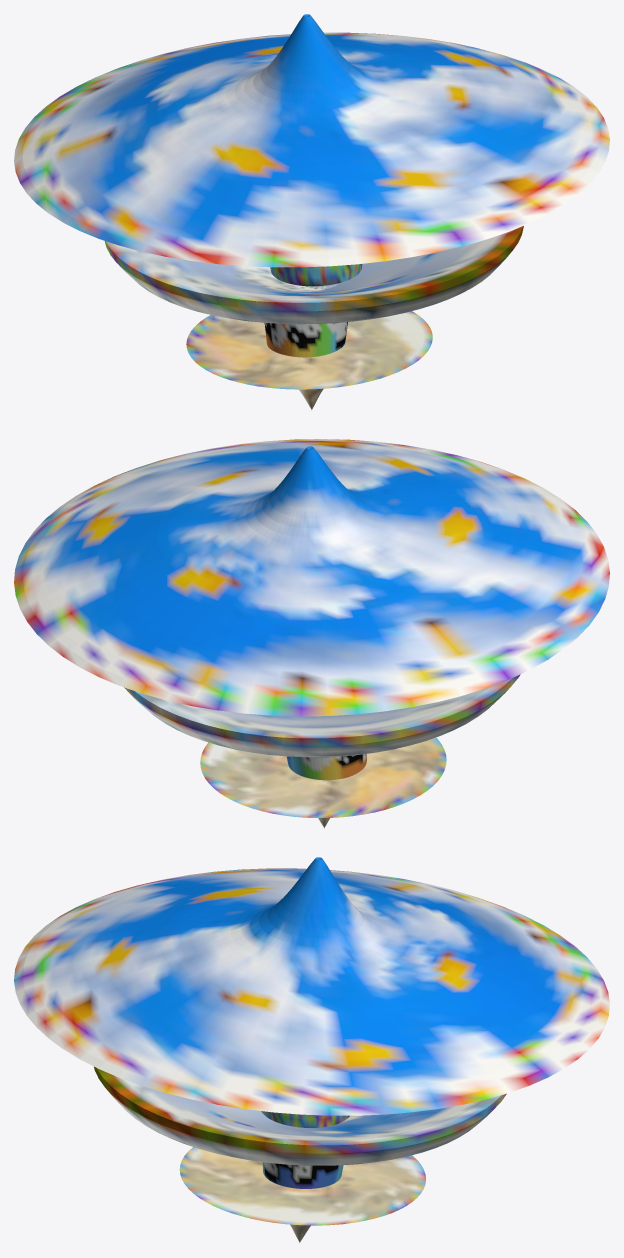
Rendered from april28outdoorpagoda14.glb.
3 views of the same model, one above another, from view 1: azimuth 30°, elevation 25°; view 2: azimuth 150°, elevation 25°; view 3: azimuth 270°, elevation 25° (orthographic).
Parts seen in each view (by area): view 1: Lathe 4, Lathe 3, Lathe, Lathe.001; view 2: Lathe 4, Lathe 3, Lathe, Lathe.001; view 3: Lathe 4, Lathe 3, Lathe, Lathe.001.
Boxes of the visible parts, bbox=[...] form: Lathe 4: bbox=[14, 14, 609, 286]; Lathe 3: bbox=[104, 226, 523, 324]; Lathe: bbox=[186, 311, 432, 410]; Lathe.001: bbox=[264, 322, 347, 357]; Lathe 4: bbox=[14, 439, 609, 716]; Lathe 3: bbox=[124, 674, 520, 757]; Lathe: bbox=[200, 737, 446, 828]; Lathe.001: bbox=[286, 754, 366, 780]; Lathe 4: bbox=[14, 857, 609, 1127]; Lathe 3: bbox=[94, 1066, 506, 1165]; Lathe: bbox=[179, 1147, 425, 1243]; Lathe.001: bbox=[262, 1162, 343, 1188].
Size of the model in its own units: 3.74 by 2.68 by 3.74.
